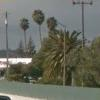Tree: (23, 8, 82, 76)
